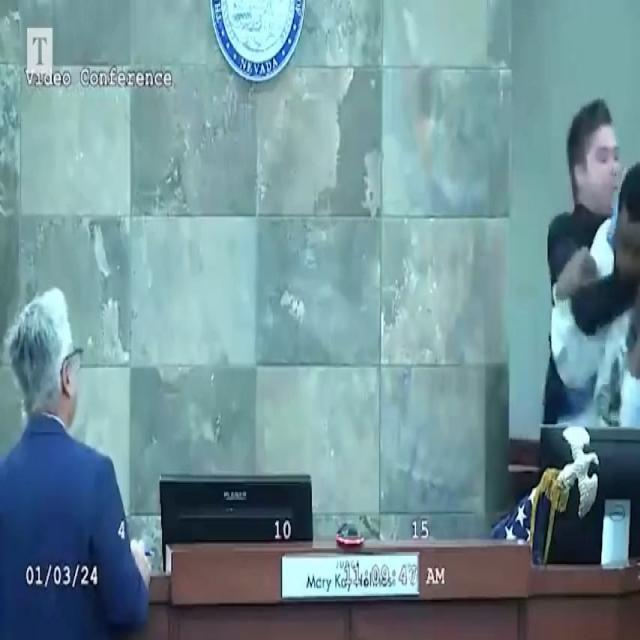fight: (530, 86, 640, 569)
non-fight: (0, 264, 150, 640)
